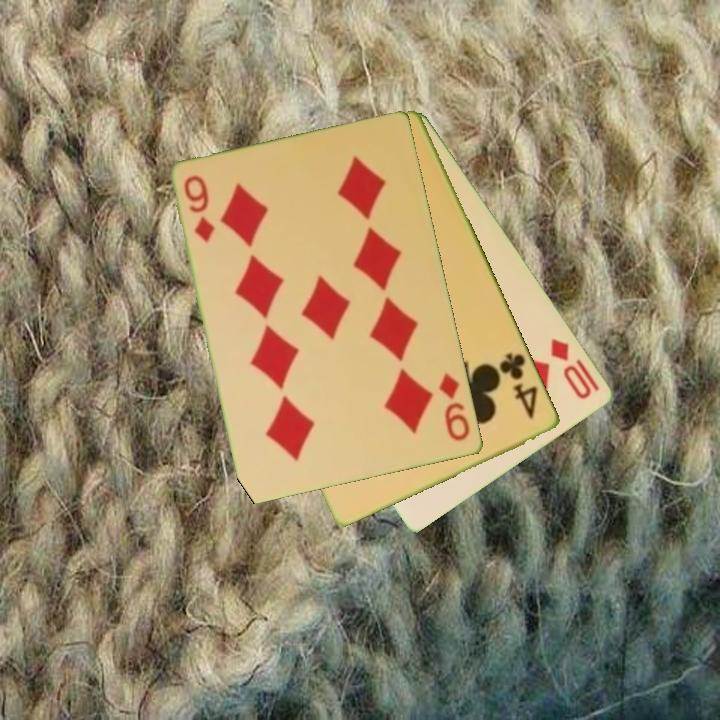10d: (547, 335, 595, 403)
4c: (496, 349, 541, 423)
9d: (181, 172, 219, 246), (436, 369, 473, 444)
